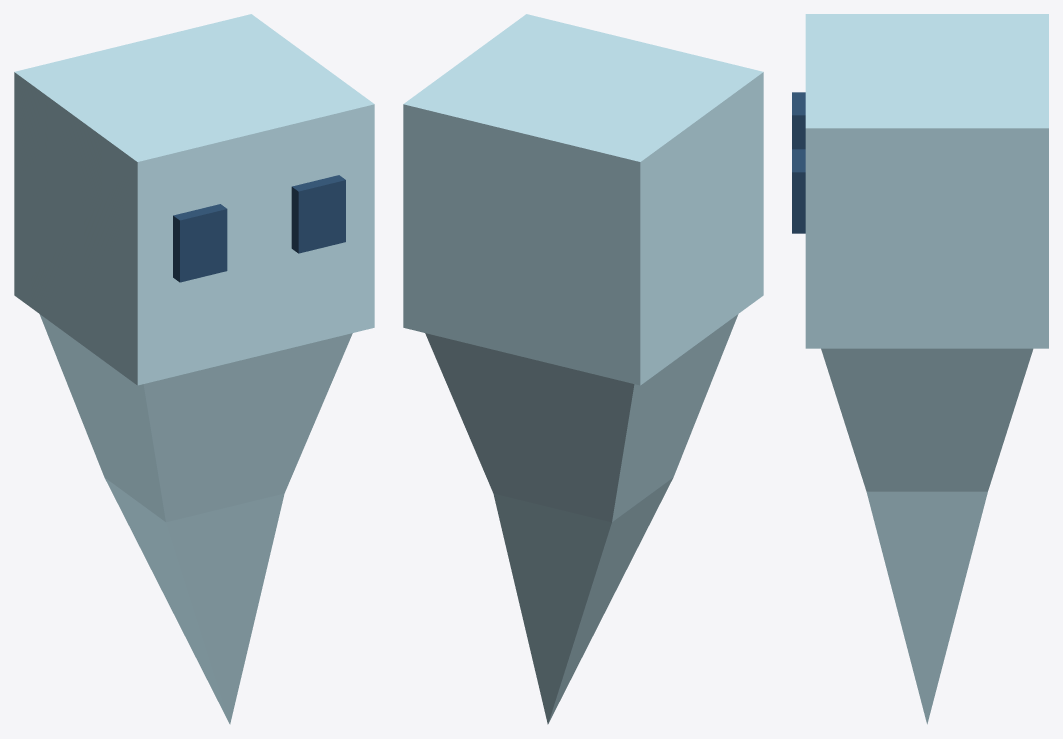
The model's file is Soul.obj.
3 views of the same model, side by side, from view 1: azimuth 30°, elevation 25°; view 2: azimuth 150°, elevation 25°; view 3: azimuth 270°, elevation 25° (orthographic).
Parts seen in each view (by area): view 1: Soul, Eyes; view 2: Soul; view 3: Soul, Eyes.
Part boxes in pixels (<box>): Soul: <box>14,14,374,724</box>; Eyes: <box>173,175,345,282</box>; Soul: <box>403,14,763,724</box>; Soul: <box>805,14,1048,724</box>; Eyes: <box>792,92,805,233</box>.
Bounding box in the file's own units: 0.2 × 0.52 × 0.19.
